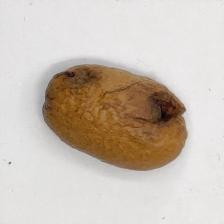NG: (104, 91, 188, 132), (40, 60, 99, 89)
